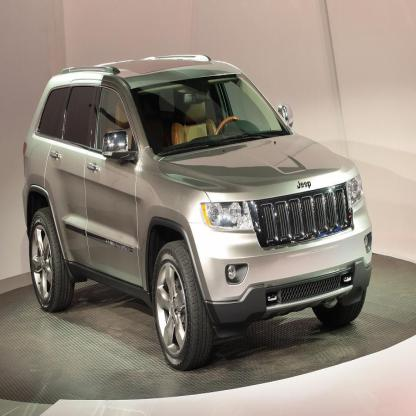Vehicle: (23, 56, 374, 373)
